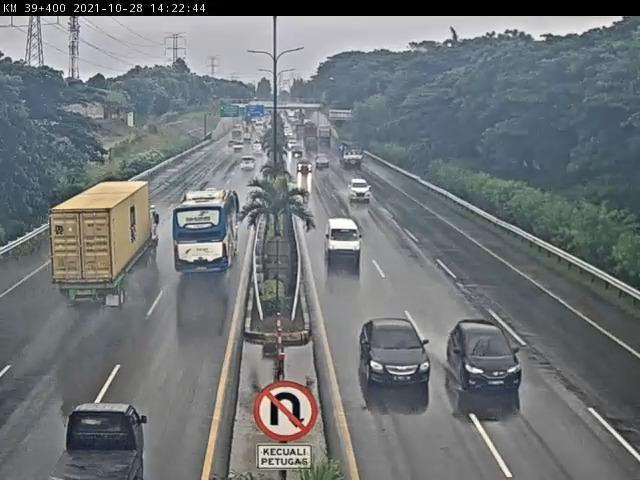Bus: (167, 184, 240, 277)
